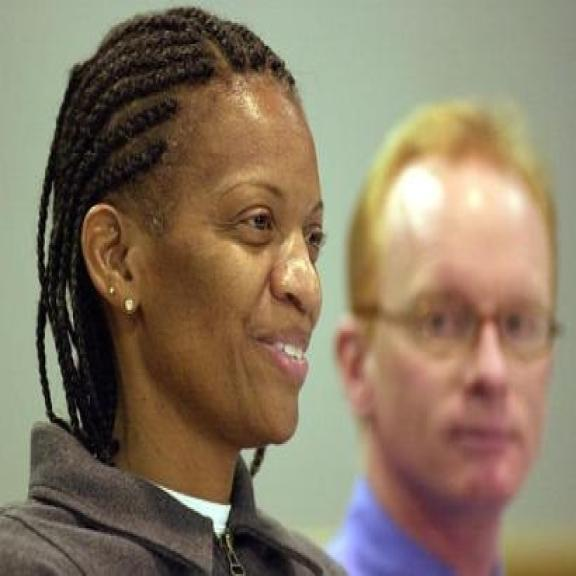face: (74, 62, 327, 457), (332, 152, 558, 519)
